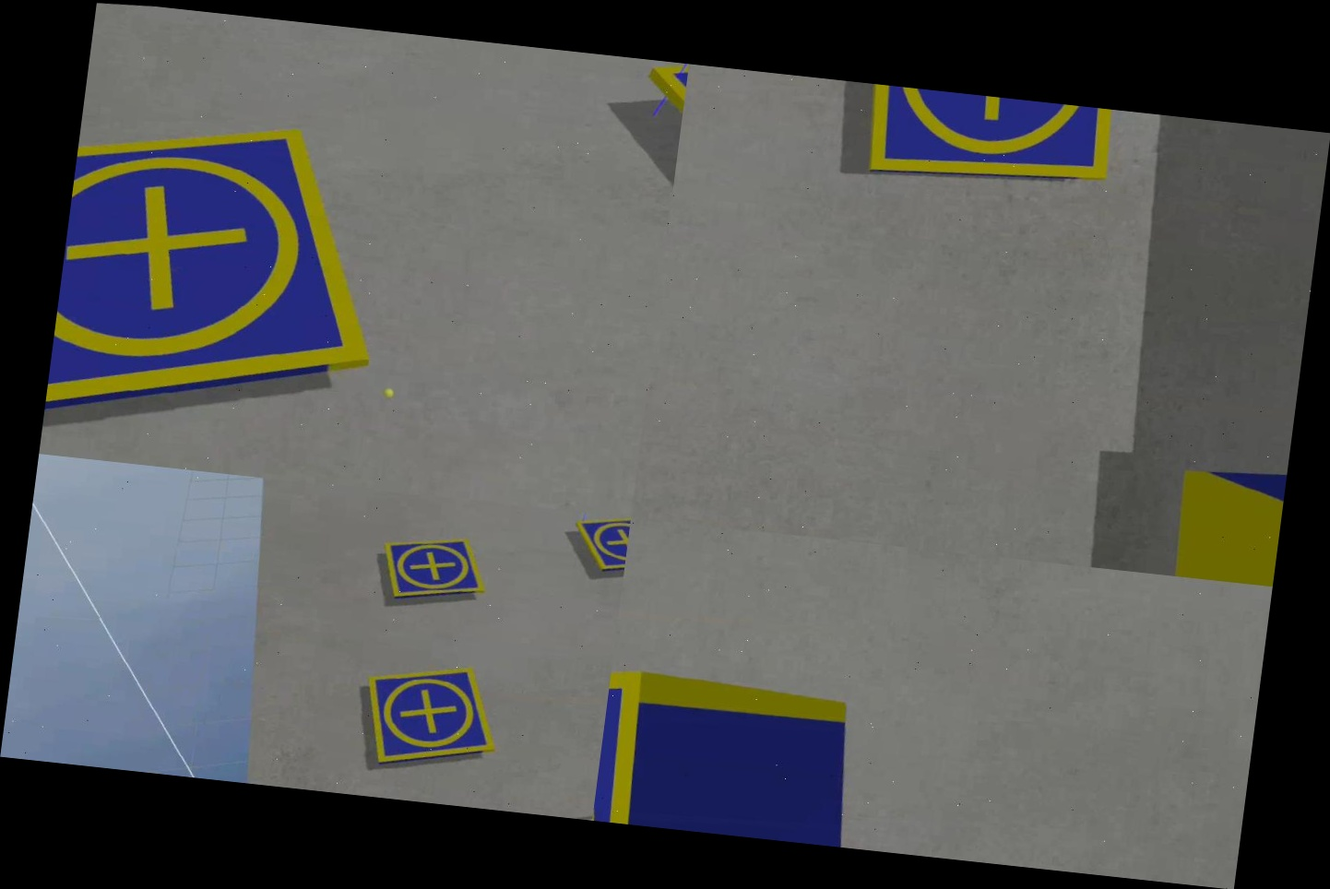small_base: (42, 100, 405, 467), (857, 83, 1118, 195), (356, 658, 502, 782), (592, 671, 661, 825), (374, 530, 491, 613), (571, 512, 631, 579)
